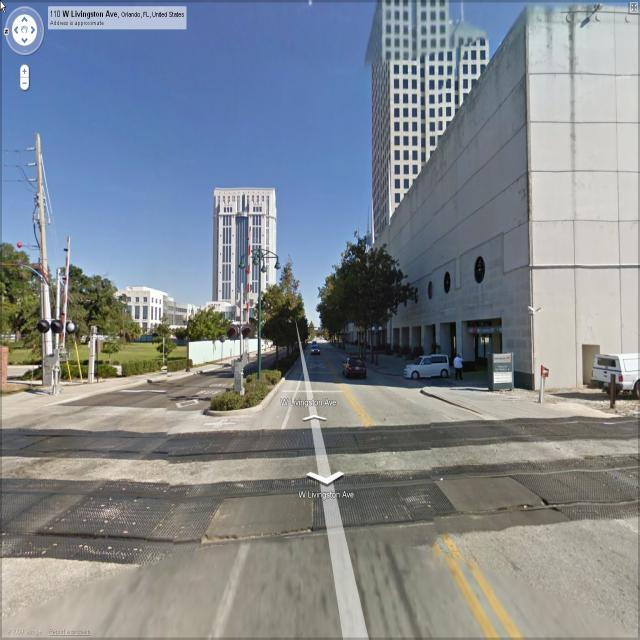b_1: (398, 12, 640, 383), (365, 9, 497, 209), (202, 182, 284, 354), (127, 274, 202, 339)
